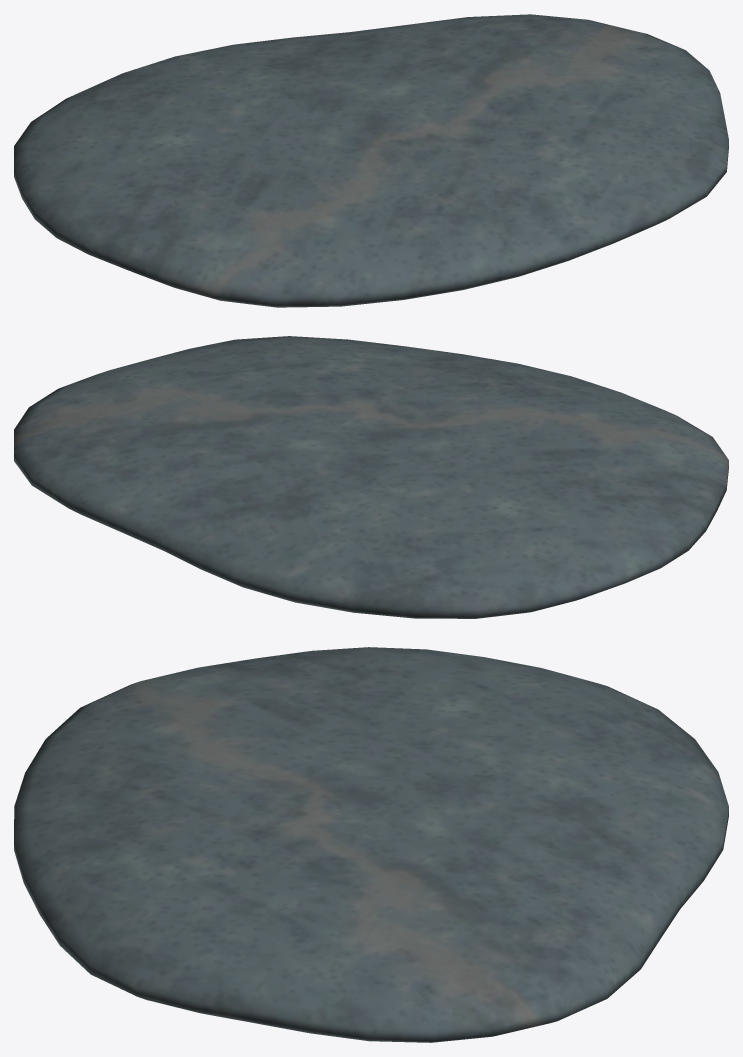
File: standard_03.glb
3 views of the same model, one above another, from view 1: azimuth 30°, elevation 25°; view 2: azimuth 150°, elevation 25°; view 3: azimuth 270°, elevation 25° (orthographic). The views are drawn at different scales.
Parts seen in each view (by area): view 1: standard_03; view 2: standard_03; view 3: standard_03.
Part boxes in pixels (box(x1,y1,x2,y2)): standard_03: box(14, 14, 728, 307); standard_03: box(14, 336, 728, 618); standard_03: box(14, 647, 728, 1042).
Size of the model in its own units: 0.078 by 0.00873 by 0.0616.
Materials: 1 (1 with a texture image).
